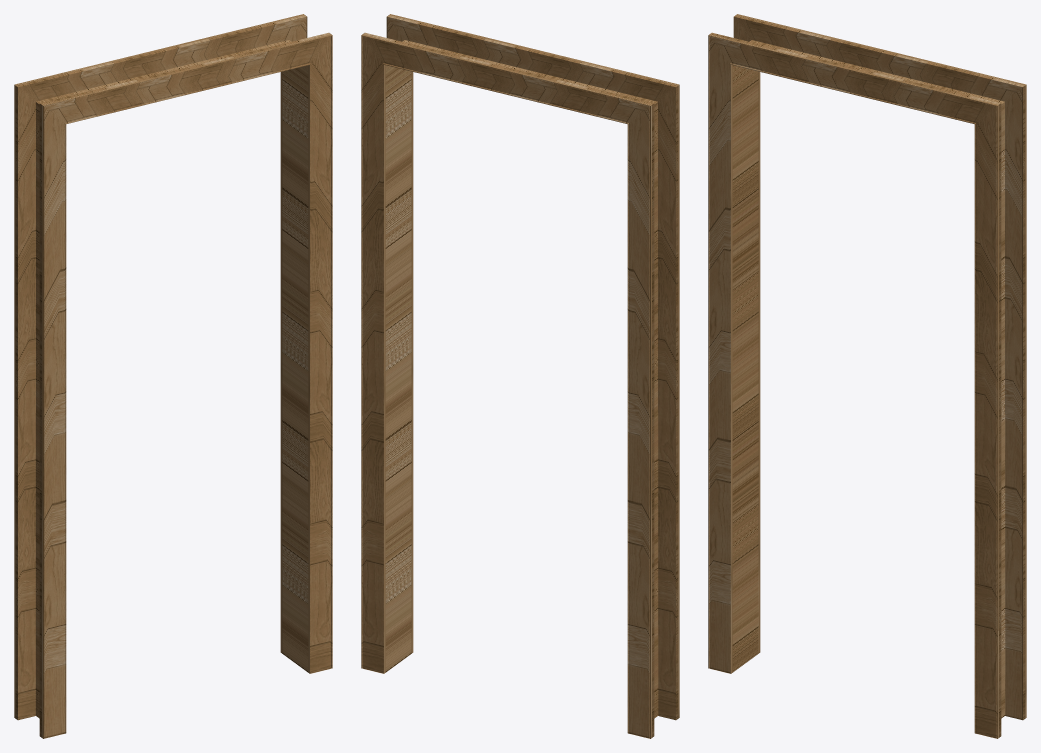
The model's file is DoorFrame.FBX.
3 renders of one model, left to right at view 1: azimuth 30°, elevation 25°; view 2: azimuth 150°, elevation 25°; view 3: azimuth 330°, elevation 25°, orthographic.
Parts seen in each view (by area): view 1: C-Ext001; view 2: C-Ext001; view 3: C-Ext001.
Part boxes in pixels (x1,y1,x2,y2): C-Ext001: (14, 14, 332, 738); C-Ext001: (361, 14, 679, 738); C-Ext001: (708, 14, 1026, 738).
Size of the model in its own units: 449 by 938 by 78.34.
1 material, 1 textured.
